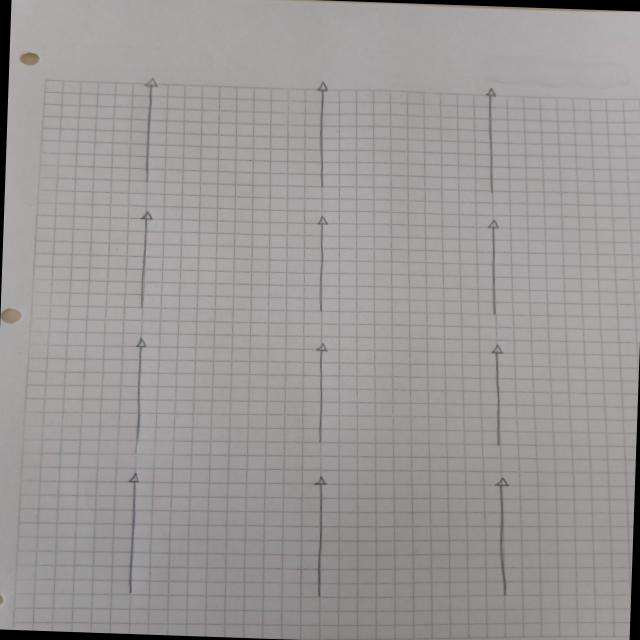arrow_line_up: (326, 429, 377, 548), (532, 147, 586, 239), (94, 278, 138, 380), (538, 427, 582, 528), (88, 427, 126, 532), (333, 277, 377, 364), (322, 154, 368, 232), (544, 276, 577, 368), (102, 28, 140, 99), (522, 34, 561, 98), (320, 39, 355, 104), (108, 146, 132, 220)
